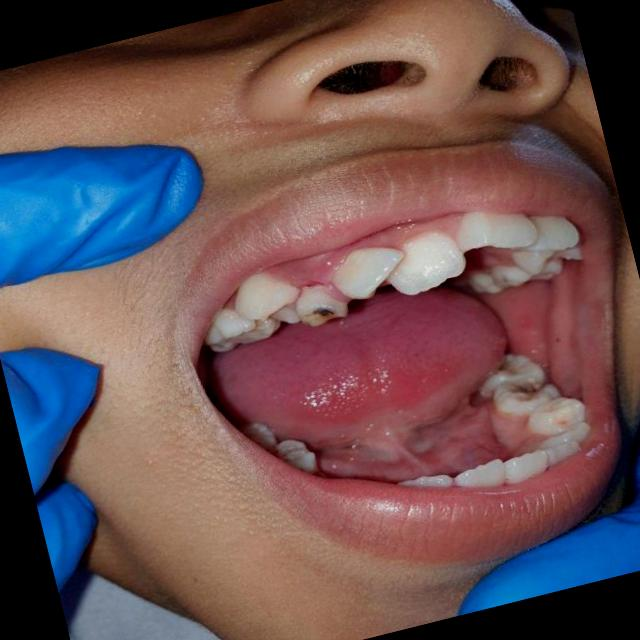caries: (290, 276, 352, 332), (276, 431, 321, 481)
